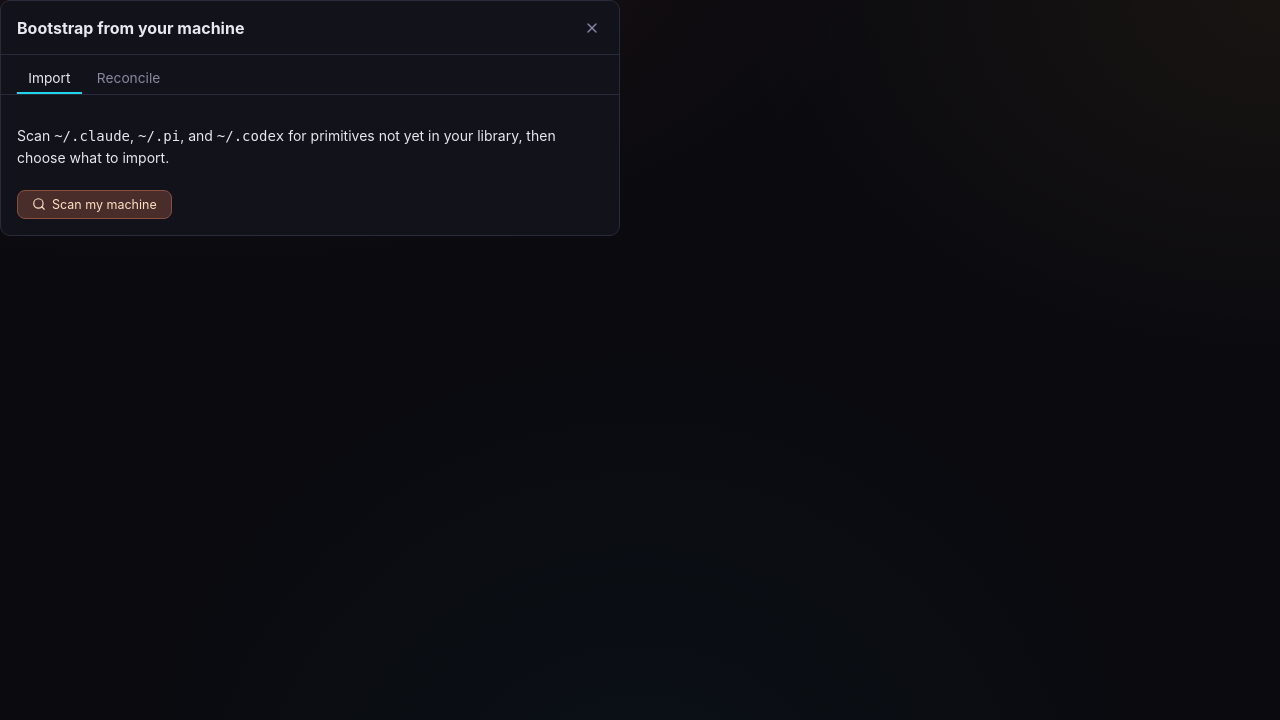
Test: BootstrapWizard — result + skips › a reconciled run surfaces the case-only re-link count with a CVD-safe cyan cue
The width and height of the screenshot is (1280, 720).
Click the button "Scan my machine" at (94, 204), box x1=17 y1=190 x2=172 y2=219
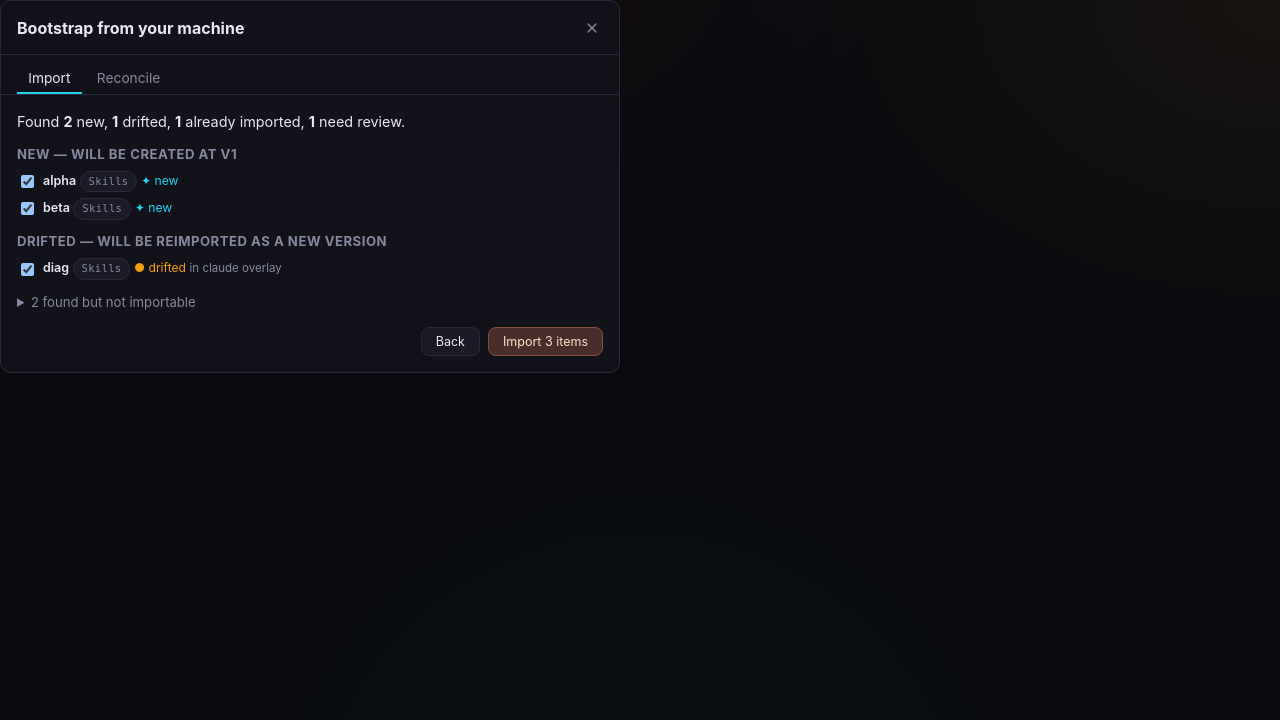
Click the button "Import 3 items" at (546, 341), box x1=488 y1=327 x2=603 y2=356
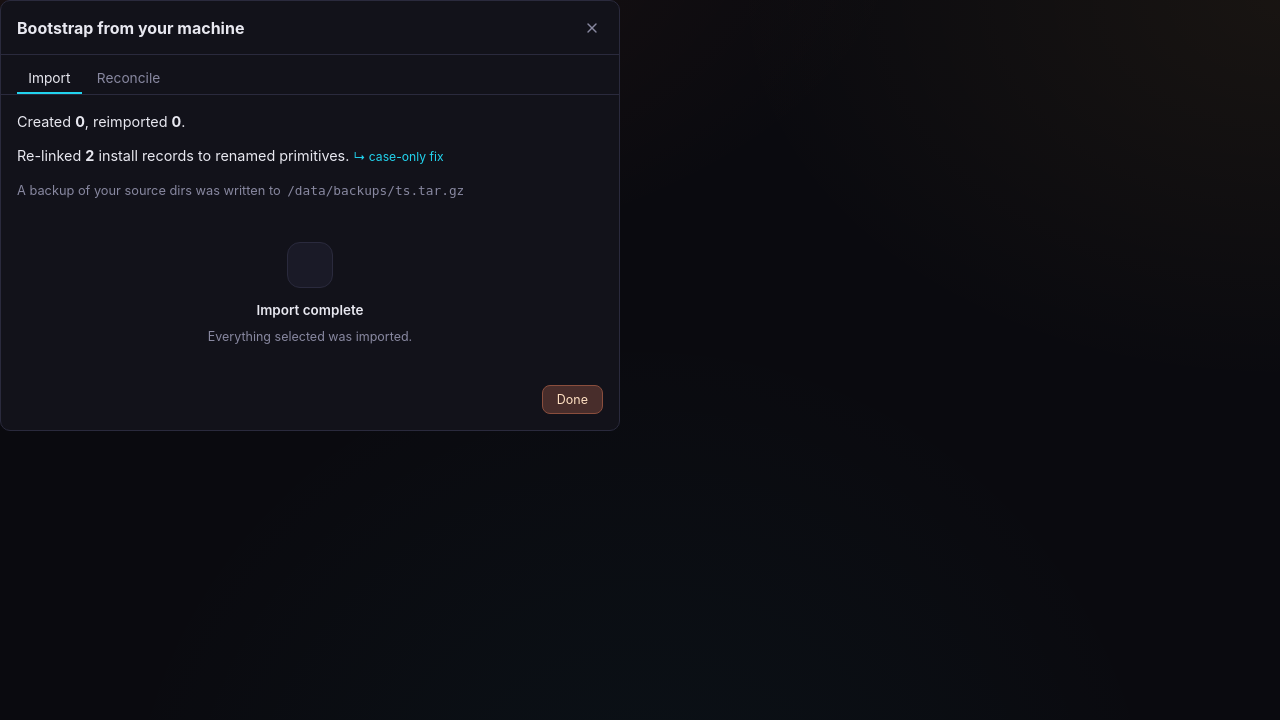
Result: the text "to renamed primitives" is shown at x1=94 y1=147 x2=353 y2=164
